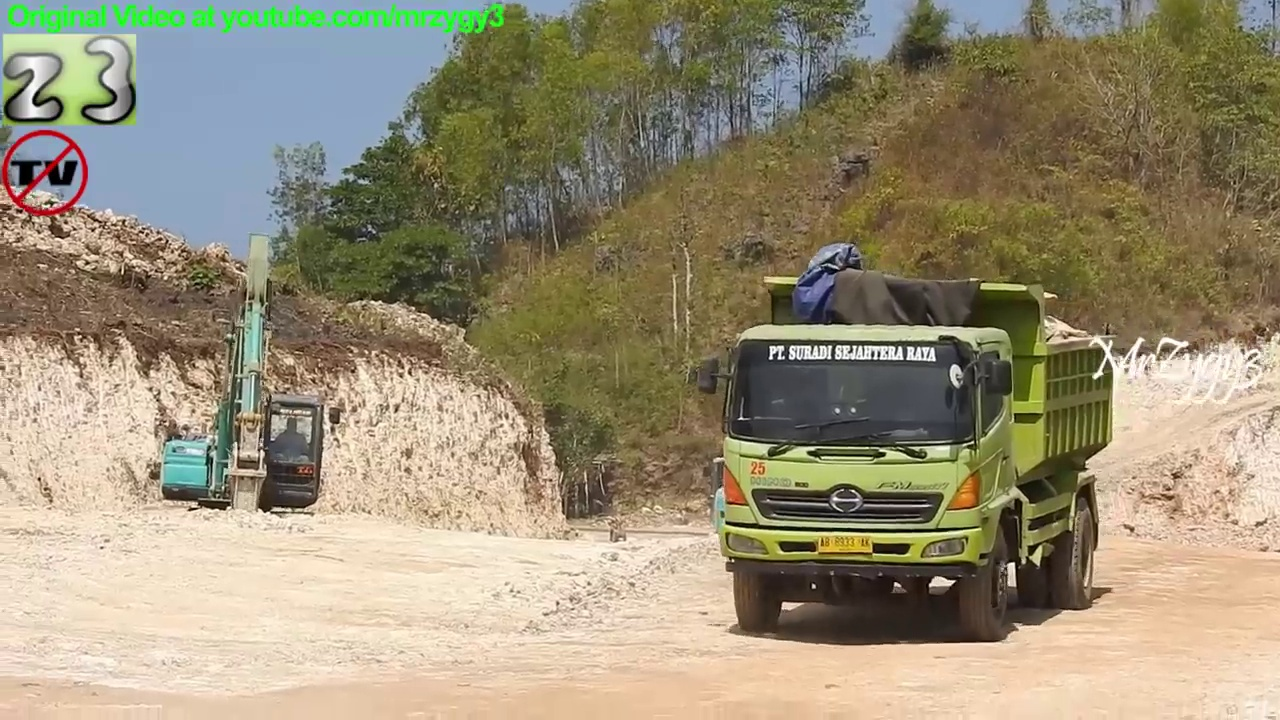excavator: (148, 230, 351, 551), (700, 419, 844, 583)
truck: (689, 265, 1126, 644)
